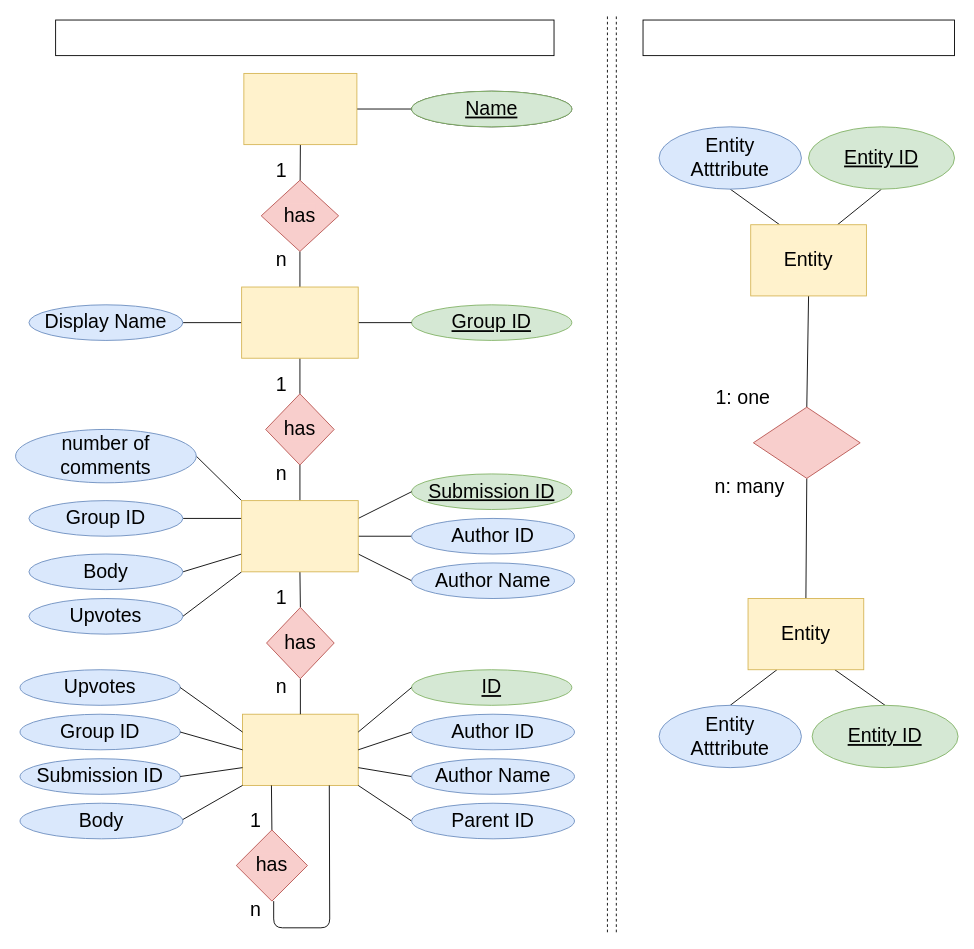
This 974x949 diagram has some shape labels left out. Each missing label, with the centre of its shape:
Comment: the point at 300,749
Entity-Relationship Data Model: the point at 304,37
Group: the point at 299,322
Model Components Legend: the point at 798,37
Network: the point at 300,109
Relation: the point at 806,442
Submission: the point at 299,536
